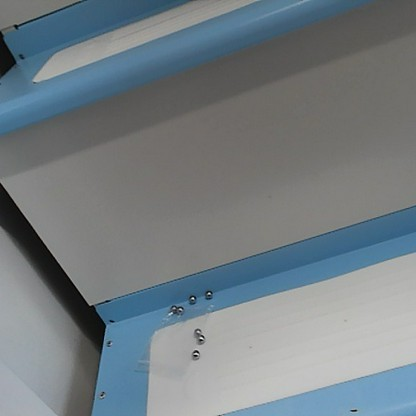ironball: (188, 348, 201, 360), (186, 293, 198, 305), (175, 302, 186, 315), (191, 325, 203, 336), (195, 334, 207, 345), (167, 301, 177, 314), (203, 286, 213, 298)
